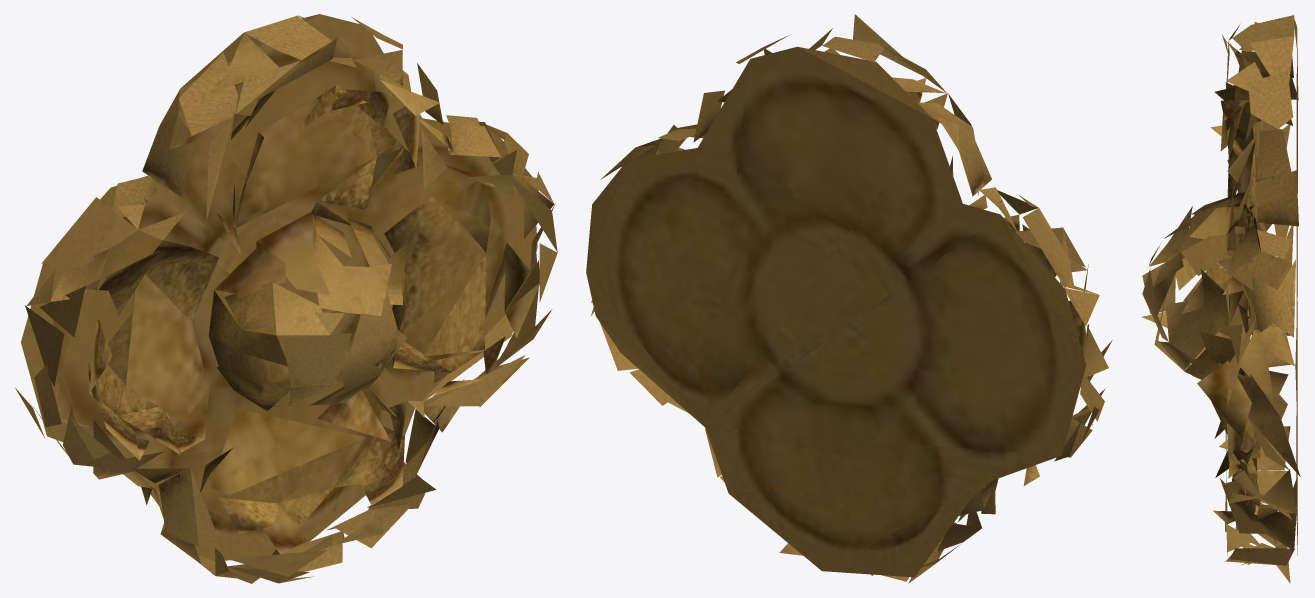
The model's file is mount_p3_w1.glb.
3 views of the same model, side by side, from view 1: azimuth 30°, elevation 25°; view 2: azimuth 150°, elevation 25°; view 3: azimuth 270°, elevation 25° (orthographic). The views are drawn at different scales.
Parts seen in each view (by area): view 1: mount_p3_w1; view 2: mount_p3_w1; view 3: mount_p3_w1.
Boxes of the visible parts, box(x1,y1,x2,y2) form: mount_p3_w1: box(15, 14, 557, 583); mount_p3_w1: box(586, 14, 1112, 583); mount_p3_w1: box(1142, 14, 1300, 583).
Size of the model in its own units: 0.0198 by 0.02 by 0.00535.
1 material, 1 textured.
